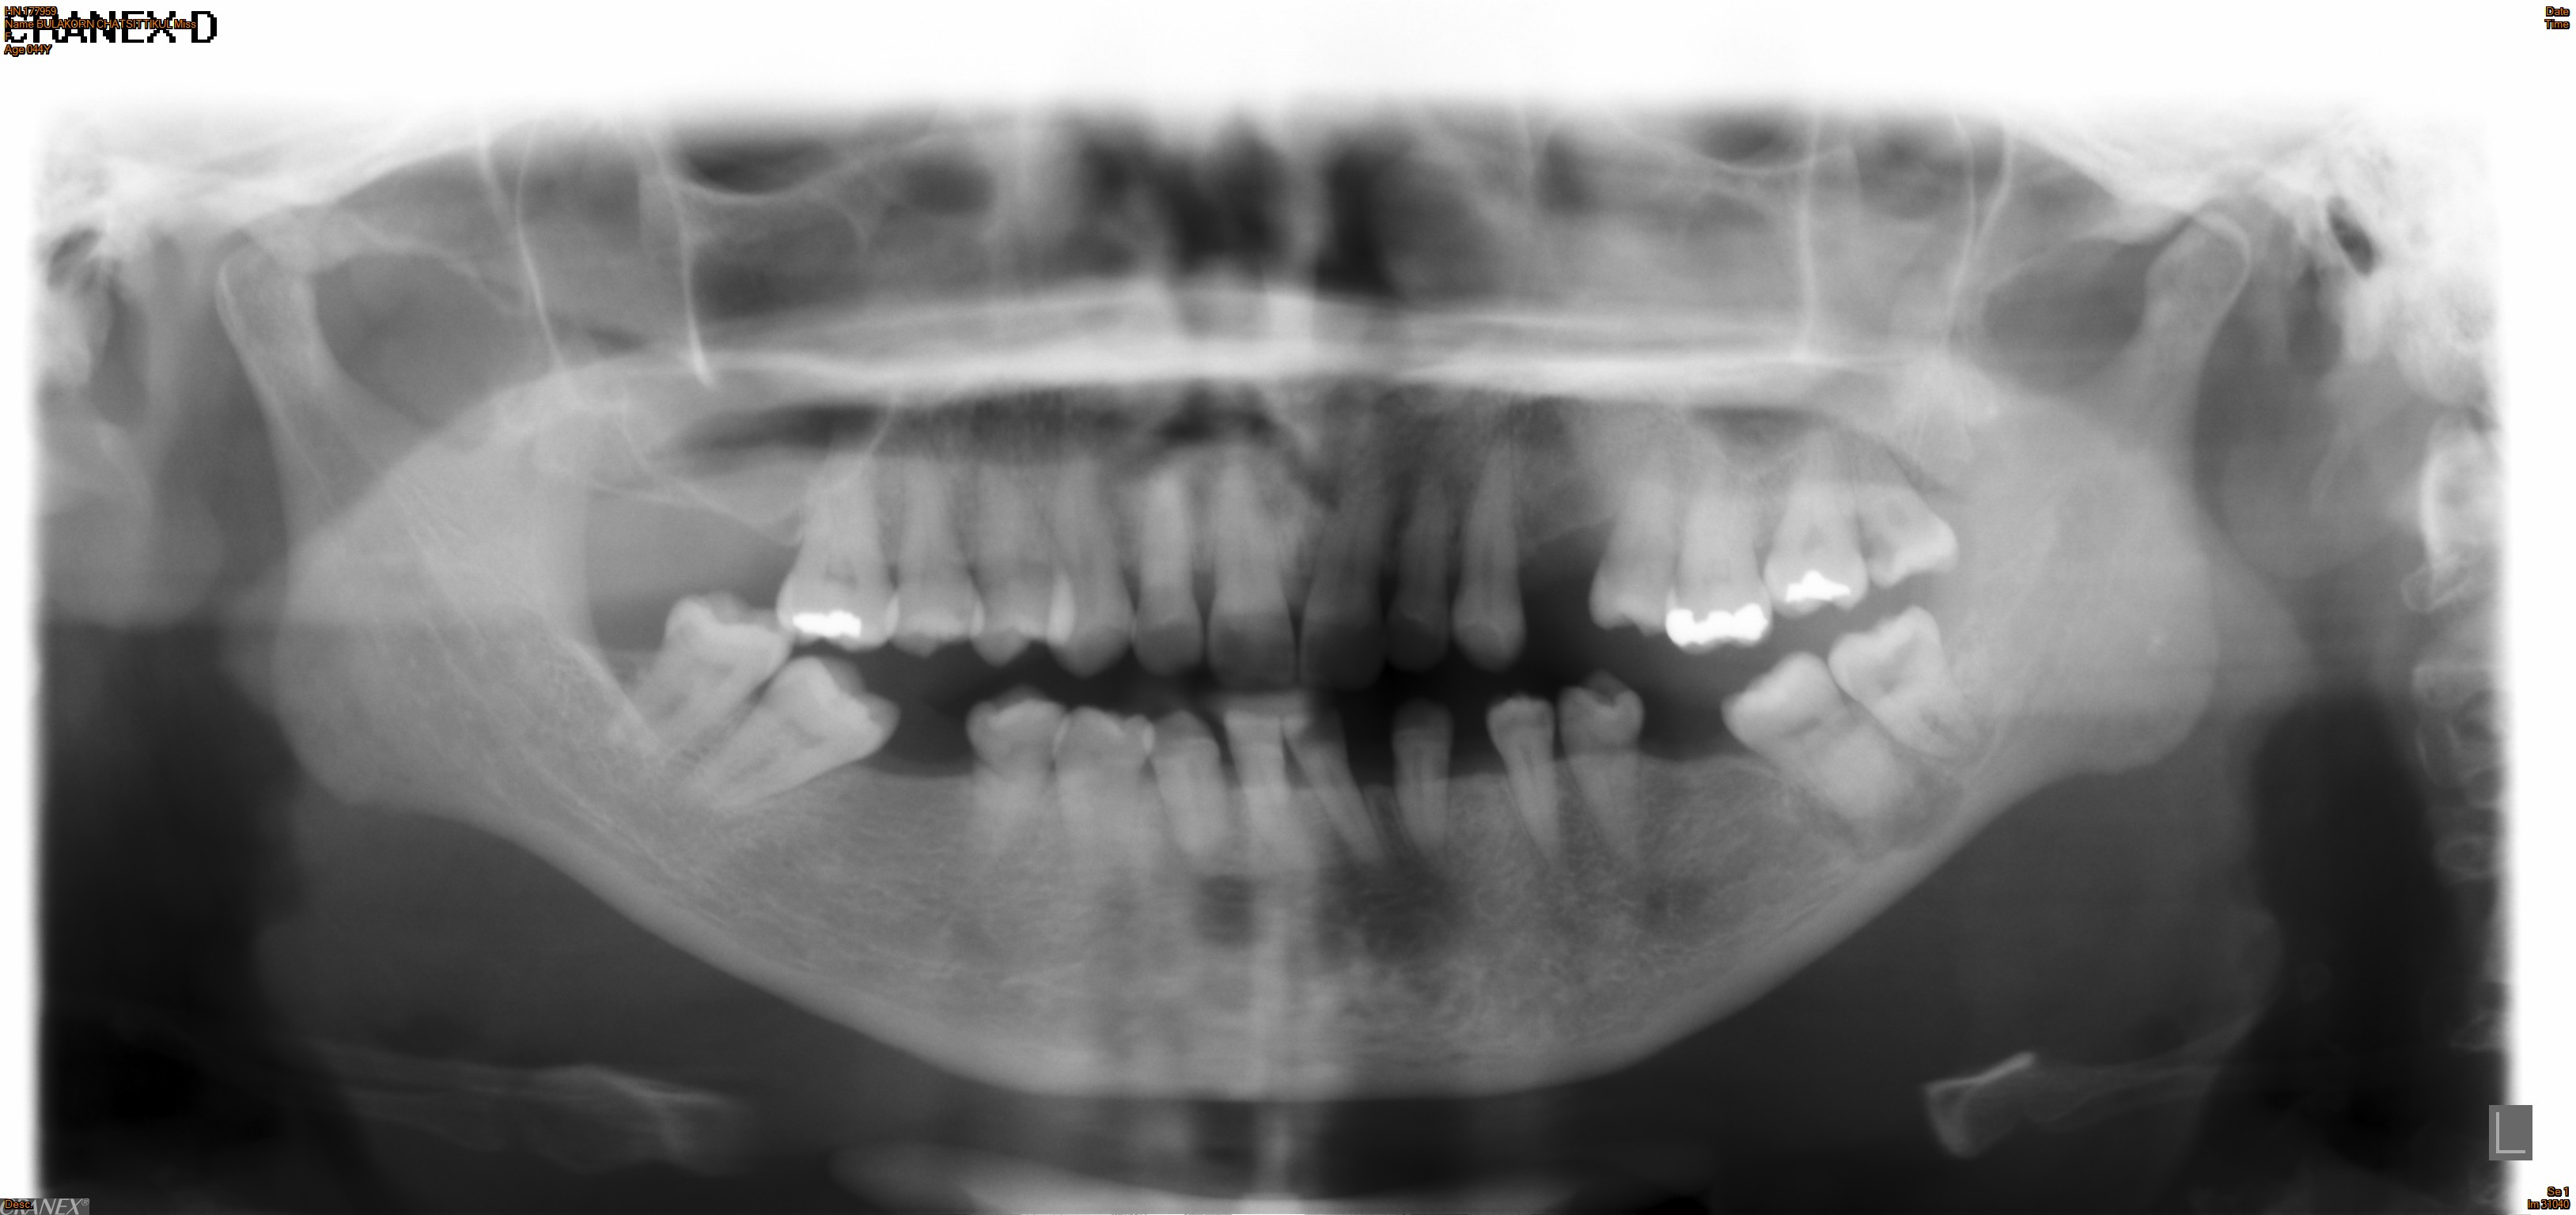periodontitis: (1715, 640, 1925, 839), (770, 440, 908, 658), (1580, 415, 1697, 649), (1442, 427, 1539, 683)
